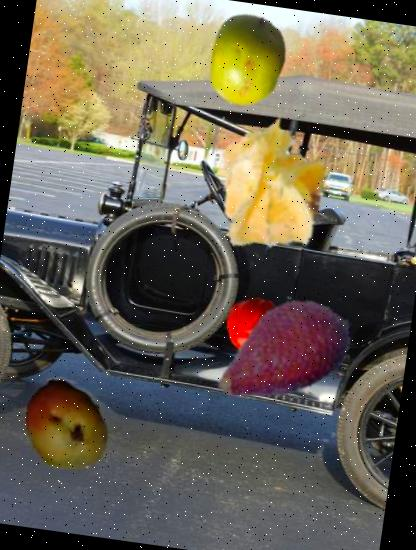Papaya: (12, 372, 118, 480)
Physalis: (191, 104, 350, 262)
Pomelo: (193, 7, 300, 113)
Salak: (199, 267, 367, 435)
Tomato: (222, 295, 292, 364)
